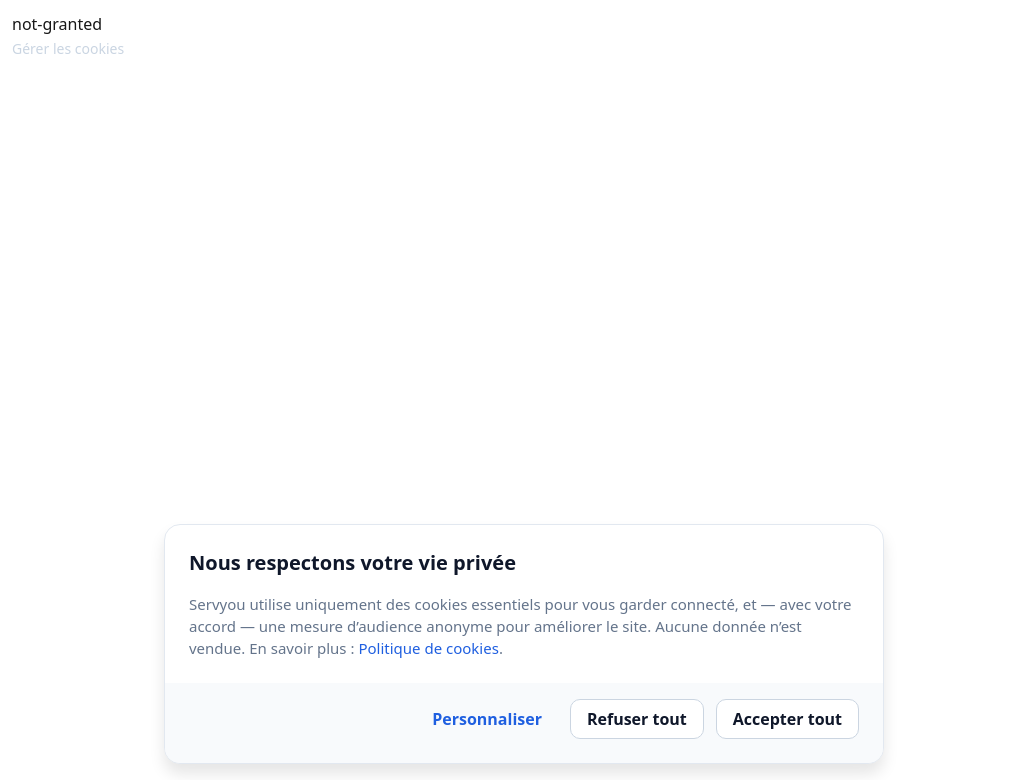
Test: the banner › « Accepter tout » stores audience = true, closes the banner and grants the hook
The image size is (1036, 780).
Expected: the text with test id "probe" reads "not-granted", [12,13,102,35]
What coordinates should you click on to do the following:
click the button "Accepter tout"
I would click on:
 (787, 719)
Its box is [716,699,859,739].
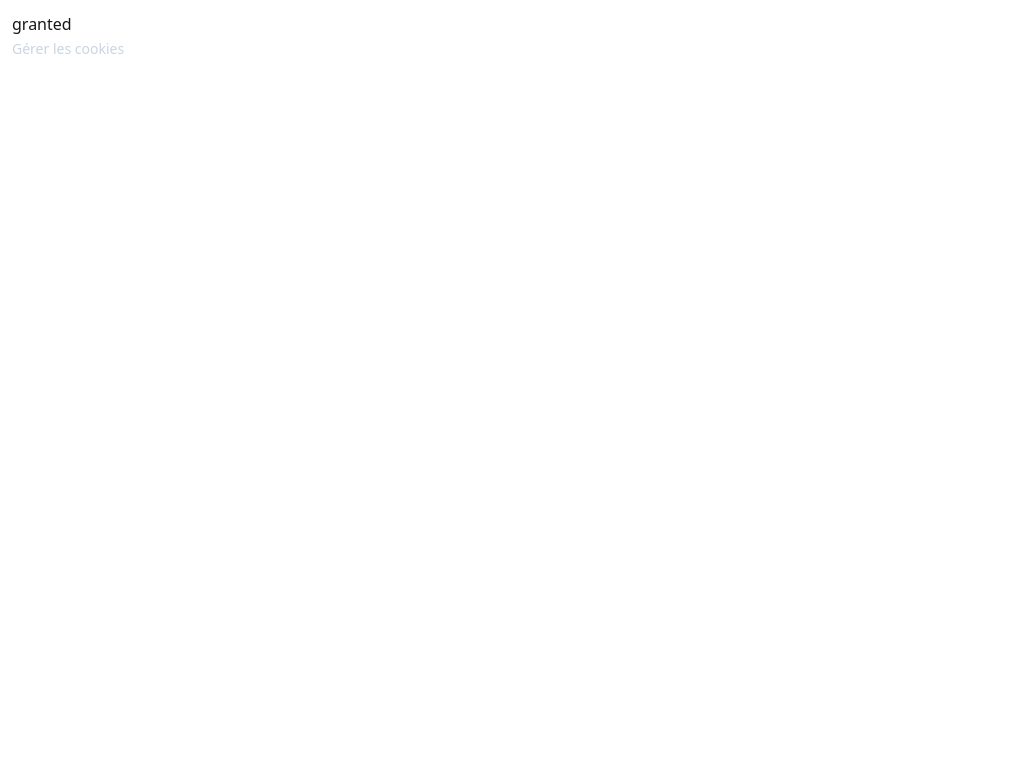
Result: the heading "Nous respectons votre vie privée" is gone
Result: the text with test id "probe" reads "granted" at [12,13,72,35]
